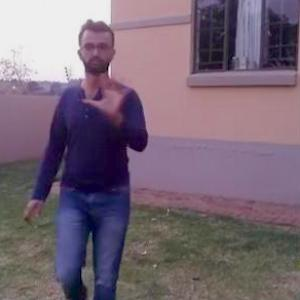follow_hand: (82, 69, 132, 115)
